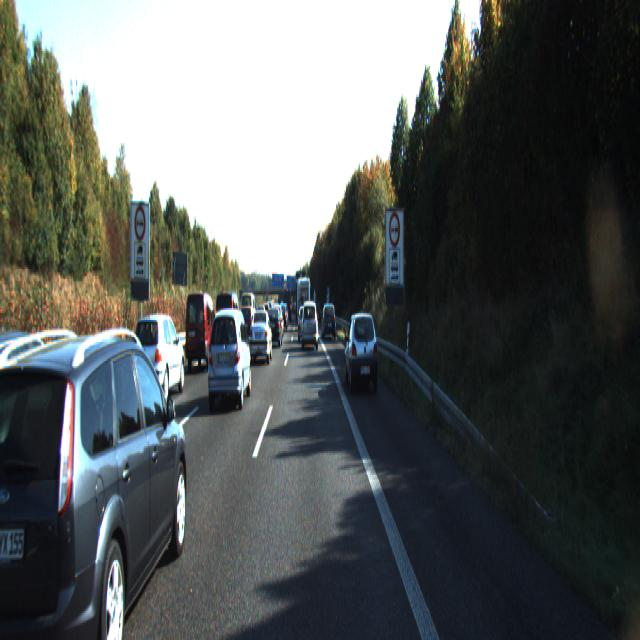Car: (0, 326, 192, 639), (0, 325, 86, 533), (130, 310, 187, 405), (206, 304, 252, 409), (345, 309, 379, 392), (185, 292, 218, 374), (214, 292, 243, 355), (247, 307, 273, 362), (302, 302, 318, 352), (240, 292, 256, 338), (239, 306, 257, 344), (269, 307, 283, 348), (322, 304, 336, 339)
